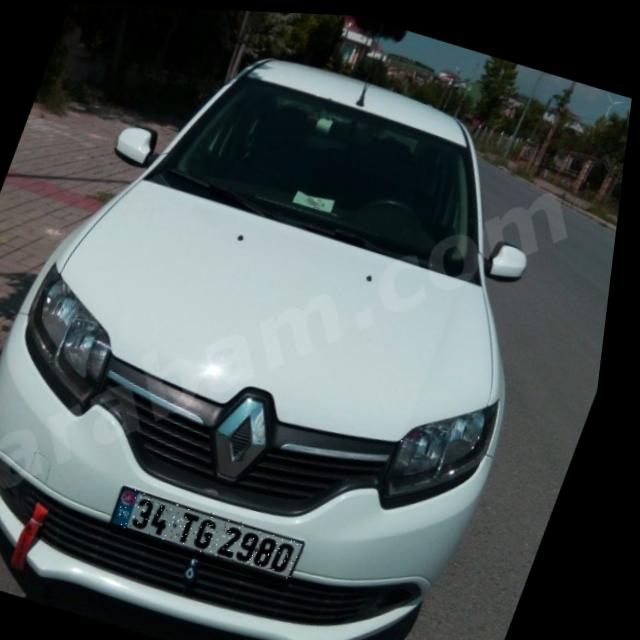license_plate: (116, 483, 321, 576)
